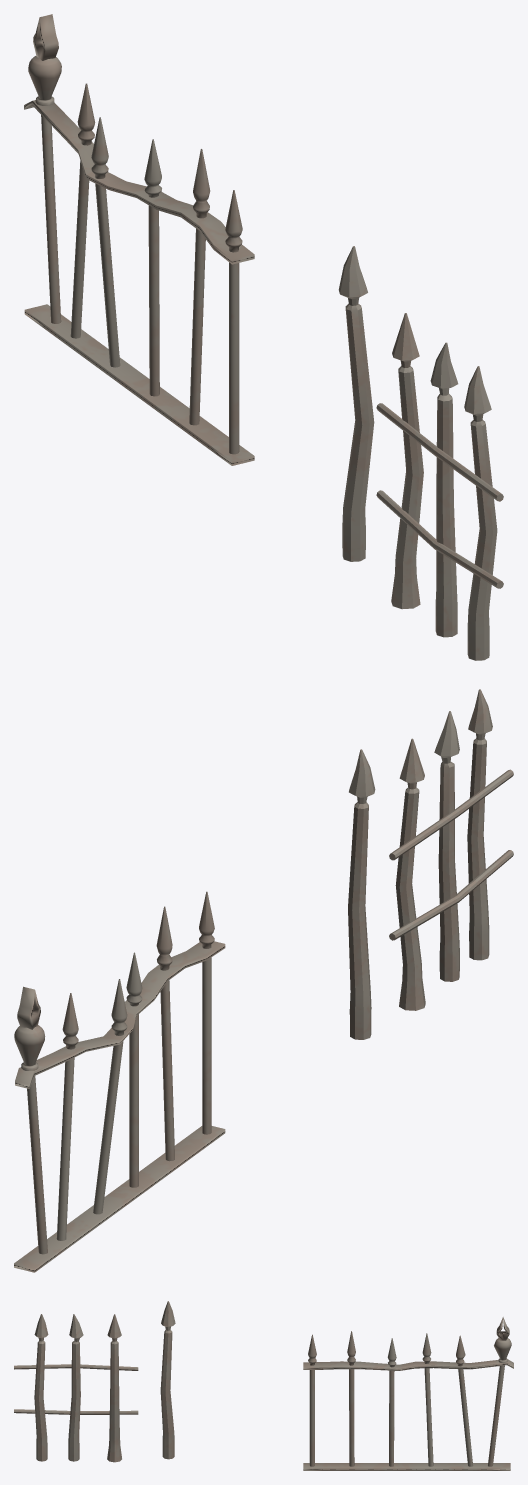
Rendered from Iron_Fence.fbx.
The picture shows the model from 3 angles, top to bottom: view 1: azimuth 30°, elevation 25°; view 2: azimuth 150°, elevation 25°; view 3: azimuth 270°, elevation 25°; orthographic projection. The views are drawn at different scales.
Visible parts, largest first — view 1: fence_, Ironfence, Ironfence.001; view 2: fence_, Ironfence, Ironfence.001; view 3: fence_, Ironfence, Ironfence.001.
Part boxes in pixels (x1,y1,x2,y2): fence_: (24, 14, 254, 465); Ironfence: (376, 313, 503, 660); Ironfence.001: (338, 246, 374, 561); fence_: (14, 891, 225, 1272); Ironfence: (389, 689, 513, 1010); Ironfence.001: (348, 749, 375, 1039); fence_: (303, 1317, 513, 1470); Ironfence: (14, 1314, 138, 1462); Ironfence.001: (160, 1301, 175, 1459).
Bounding box in the file's own units: 22.74 × 125 × 352.
